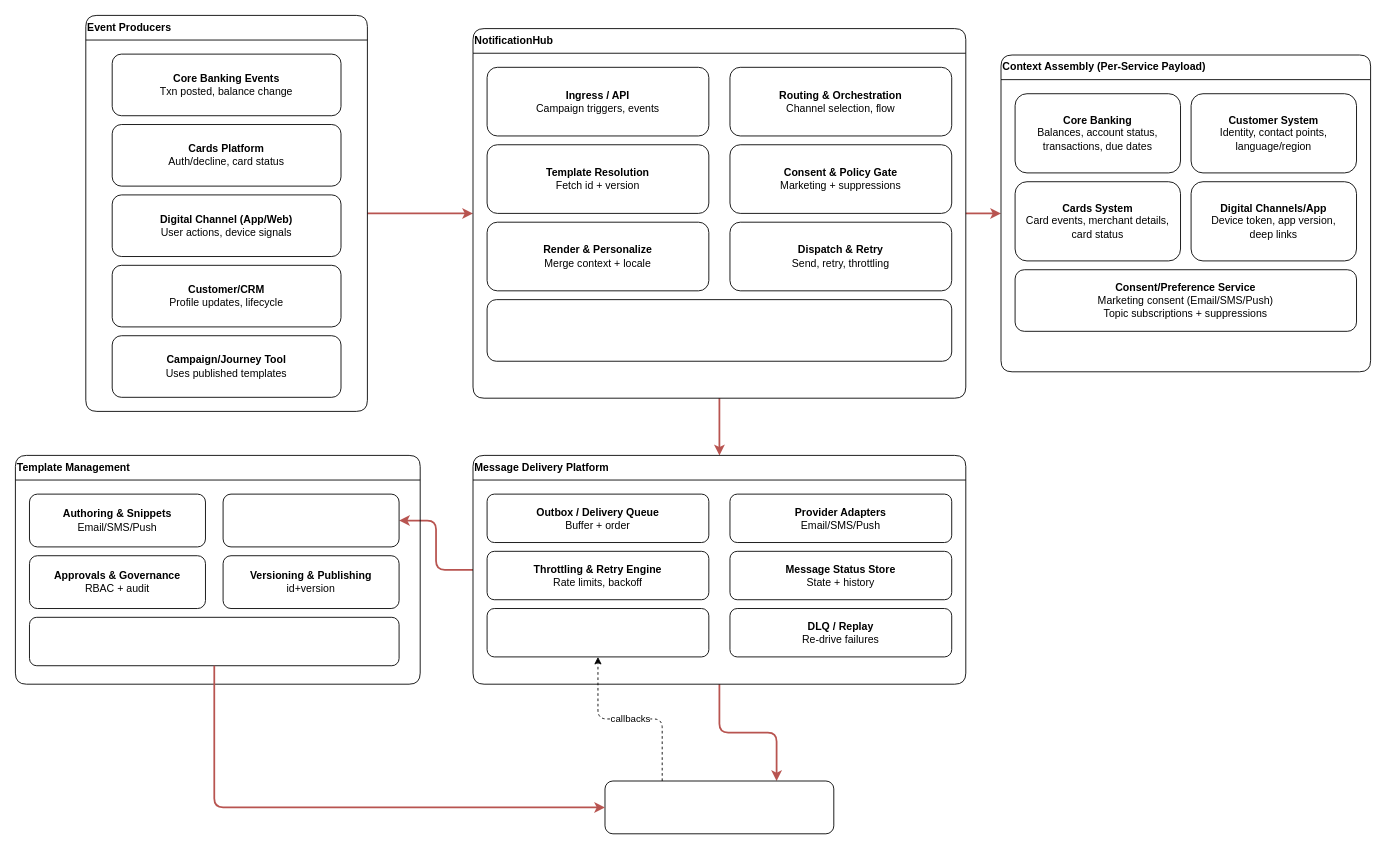
This 1386x849 diagram has some shape labels left out. Here are the shapes that lost their labels. From the top down, the centre of each, then its label:
the point at 719,330: Events & Telemetry Audit + metrics emit
the point at 310,520: Template Library / Registry Published templates
the point at 214,641: Preview & Whitelist Test Send & self-service Validate before publish
the point at 597,632: Receipts / Webhooks Delivery, bounce, complaint
the point at 719,807: Channel Gateways Email / SMS / Push providers
